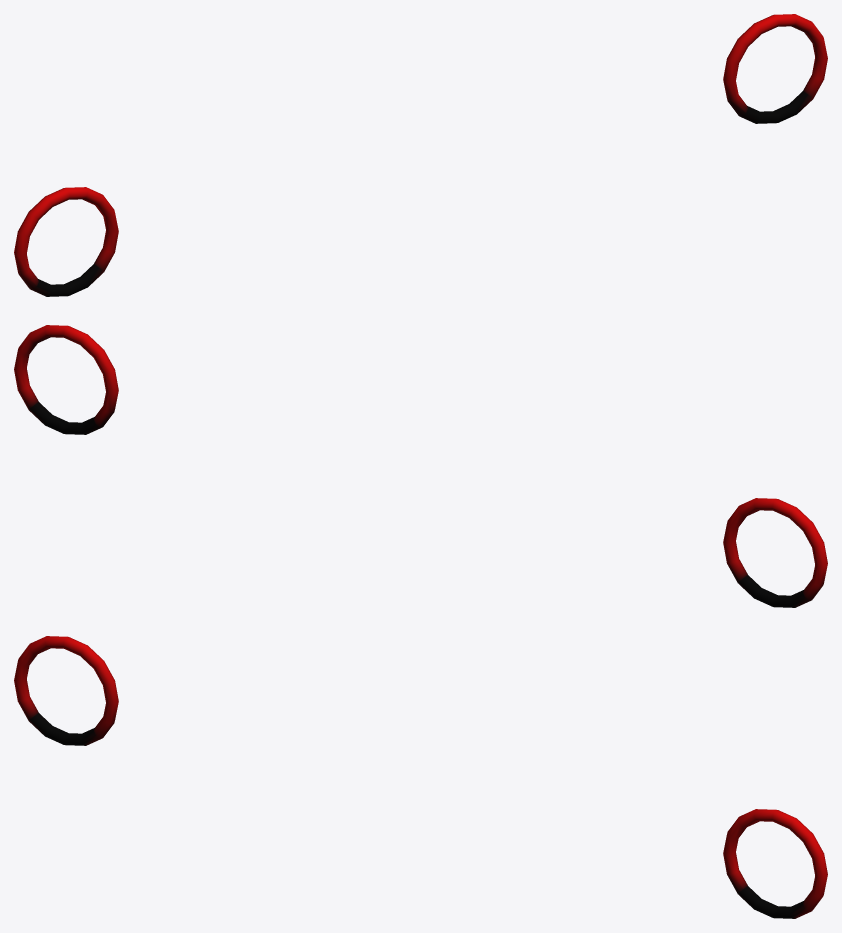
File: RopeAnchor_export.obj
3 renders of one model, top to bottom at view 1: azimuth 30°, elevation 25°; view 2: azimuth 150°, elevation 25°; view 3: azimuth 330°, elevation 25°, orthographic.
Parts seen in each view (by area): view 1: RopeAnchor; view 2: RopeAnchor; view 3: RopeAnchor.
Part boxes in pixels (<box>): RopeAnchor: <box>14,14,827,296</box>; RopeAnchor: <box>14,325,827,607</box>; RopeAnchor: <box>14,636,827,918</box>.
Size of the model in its own units: 3.53 by 0.45 by 0.05.
